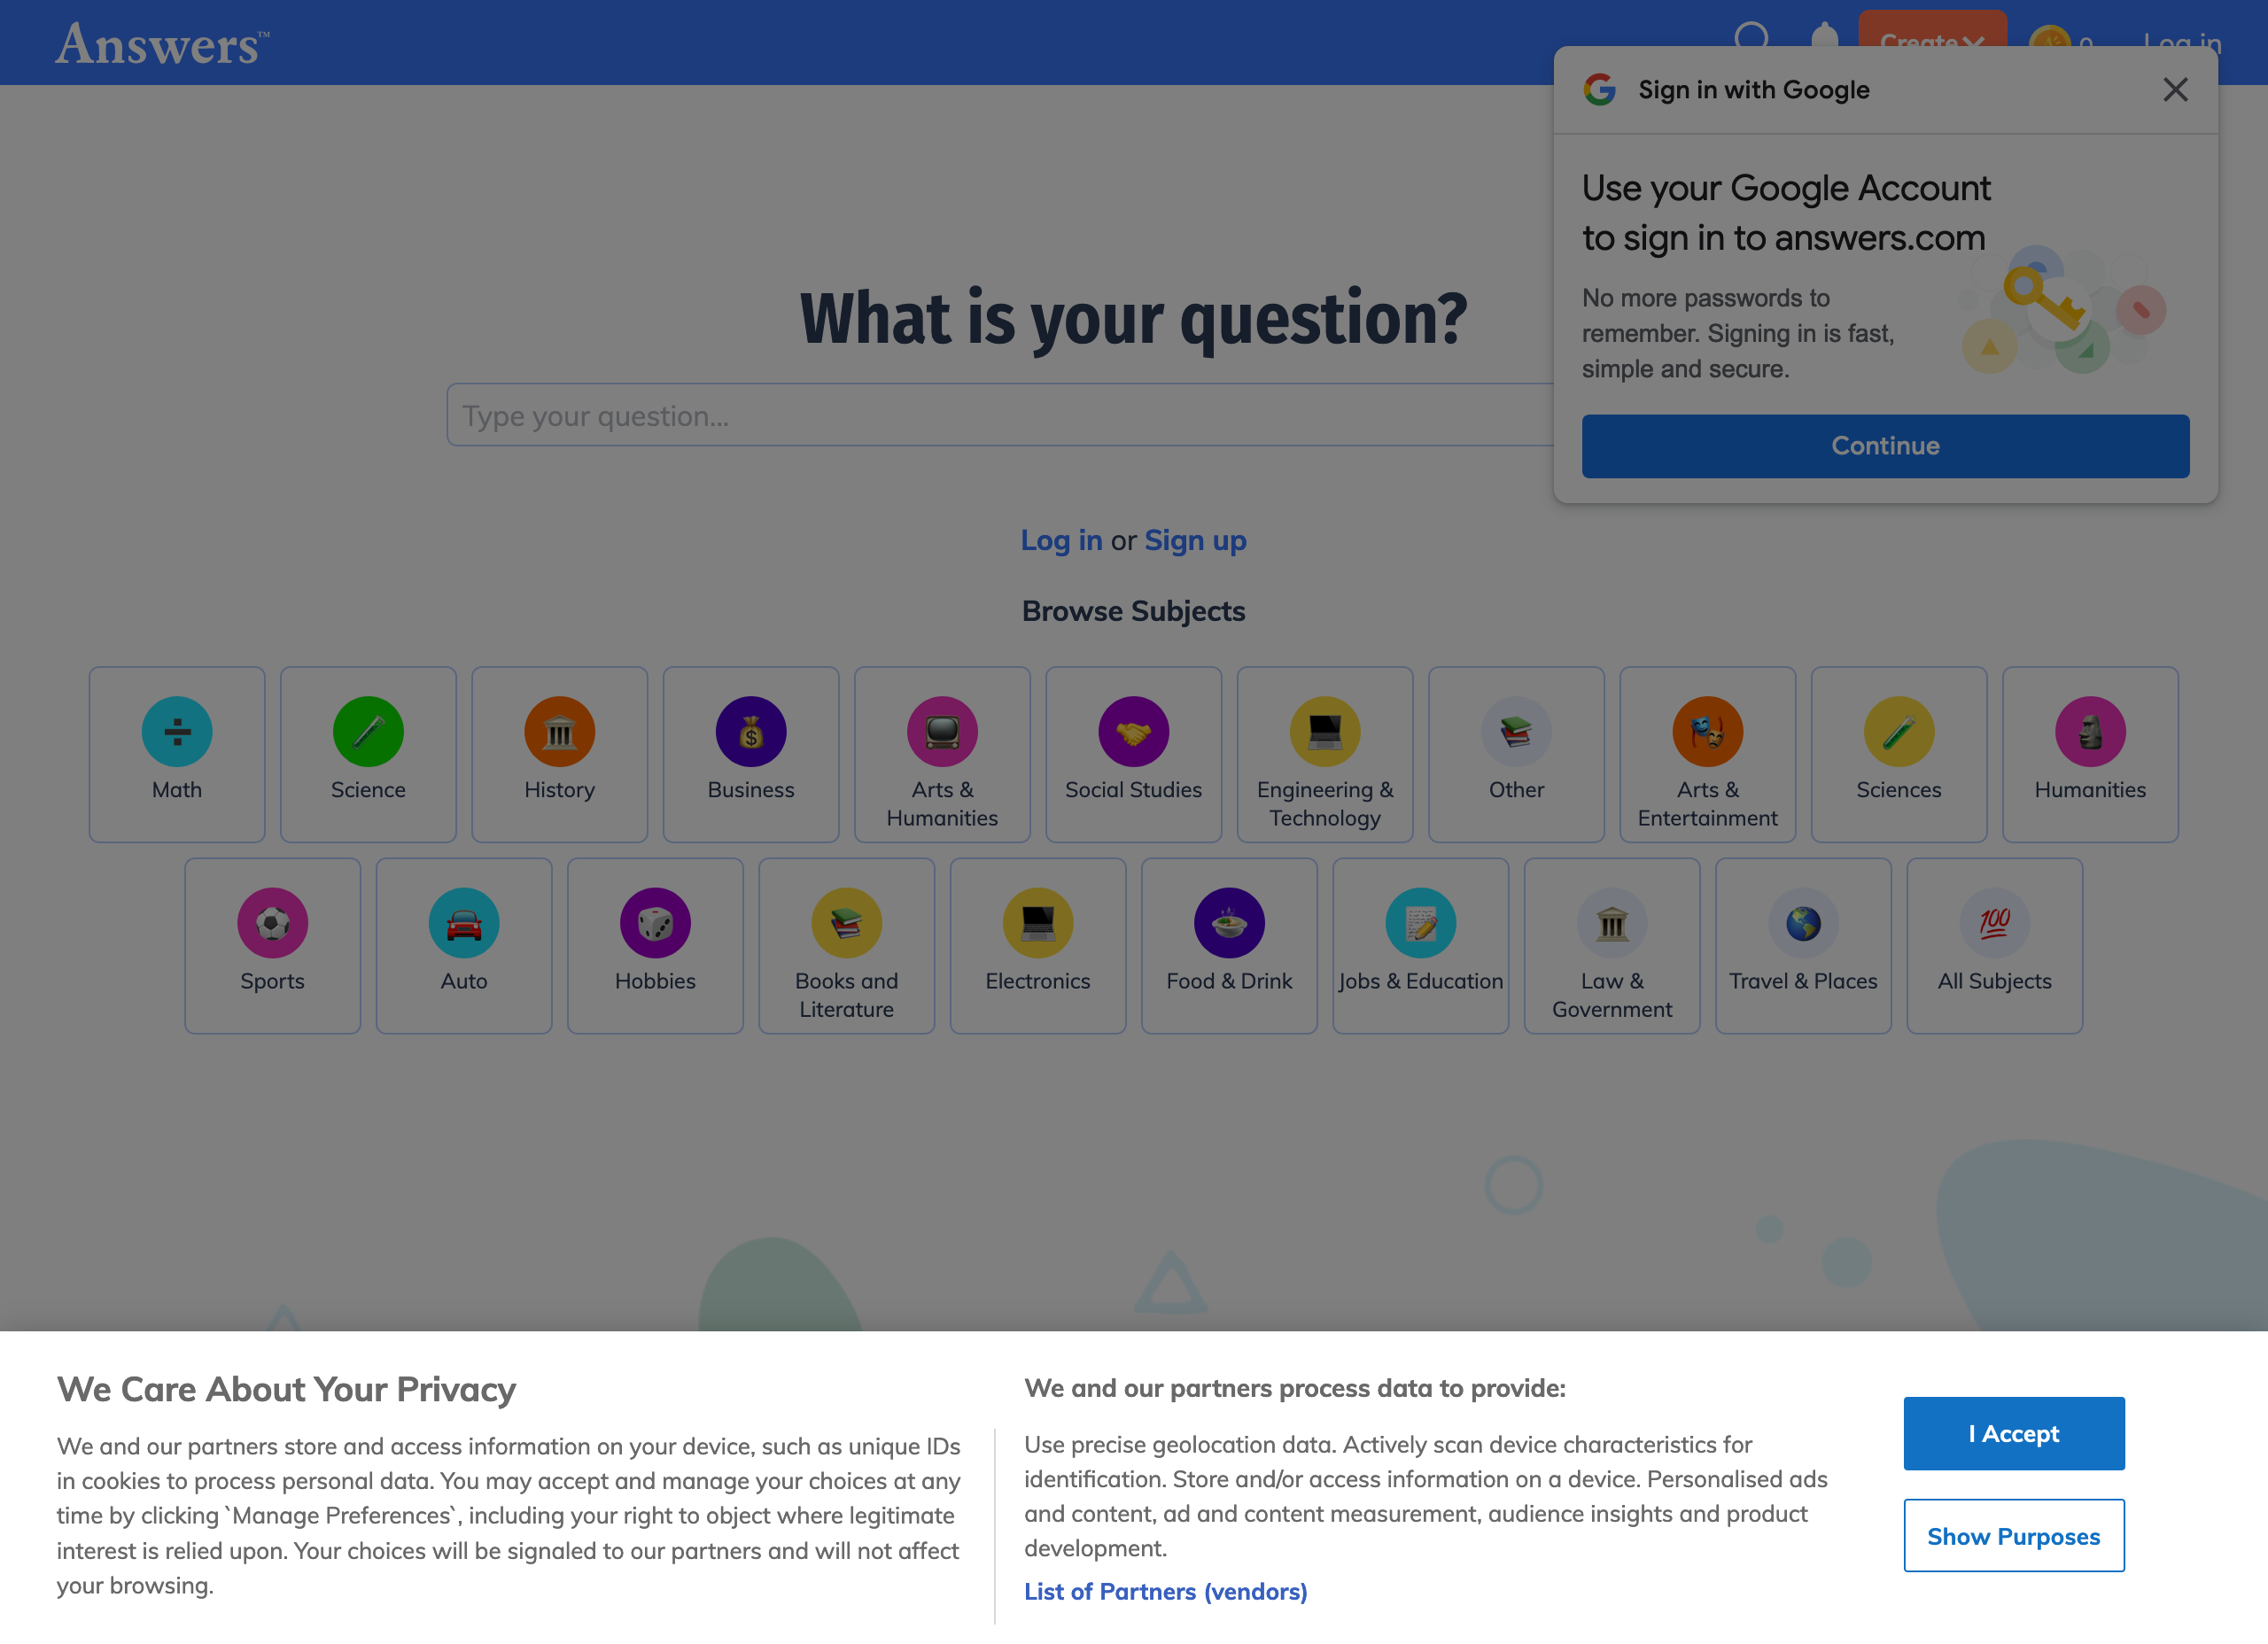Login: (1009, 507, 1108, 563)
